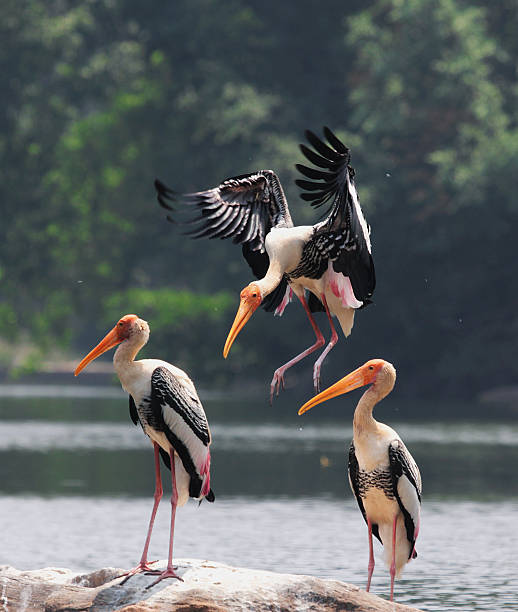Bird: (152, 127, 377, 405), (71, 311, 218, 578), (300, 356, 425, 600)
